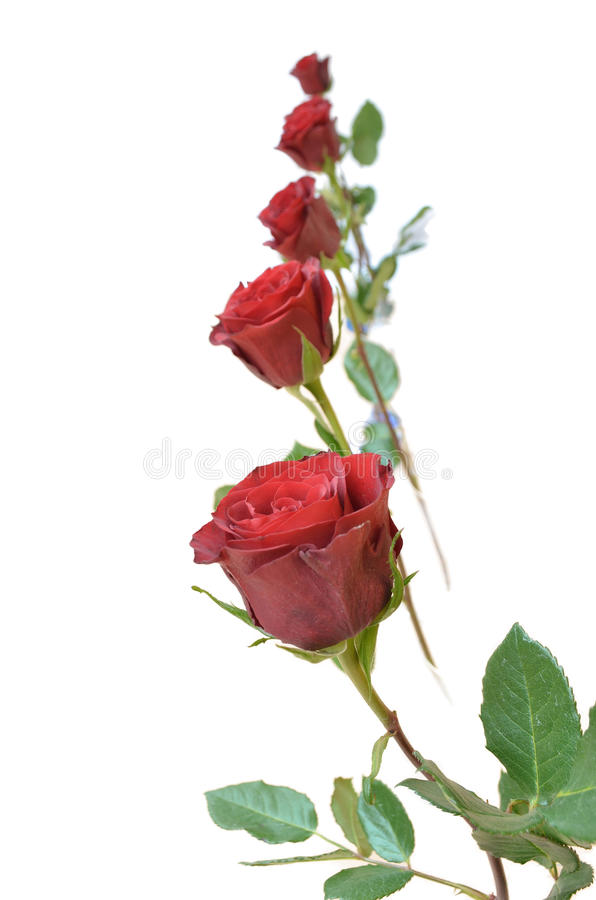RedRose: (154, 424, 434, 675), (146, 228, 388, 426)
